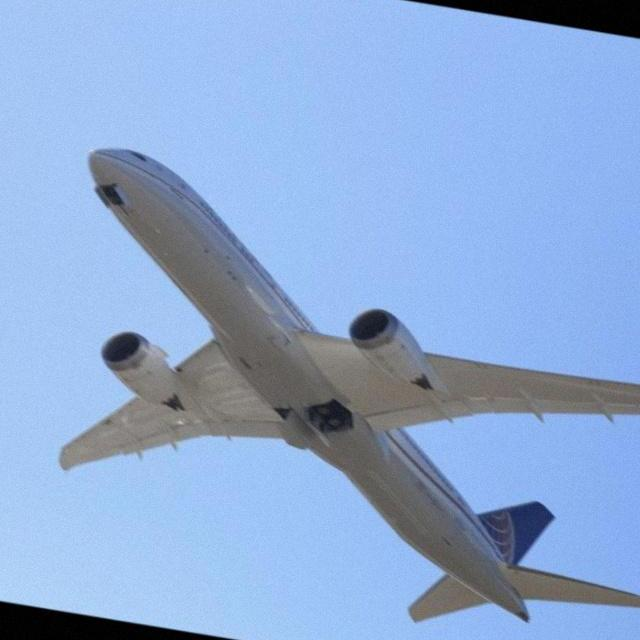airplane: (52, 143, 640, 625)
